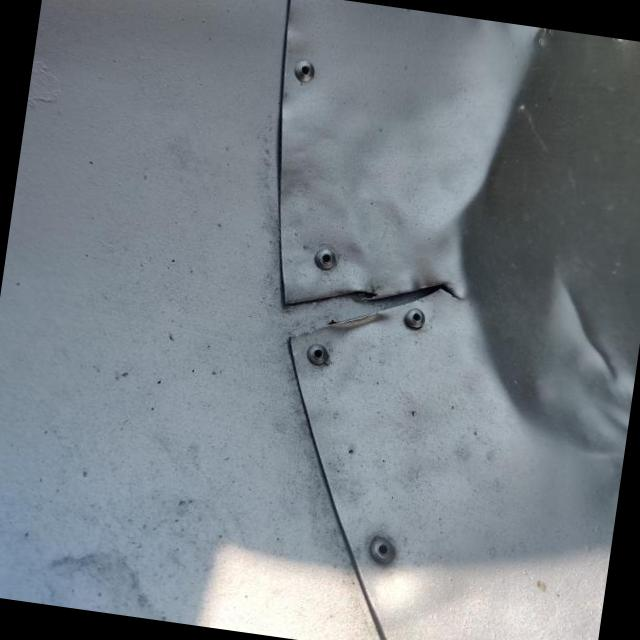Crack: (274, 276, 469, 345)
Dent: (463, 30, 640, 474)
